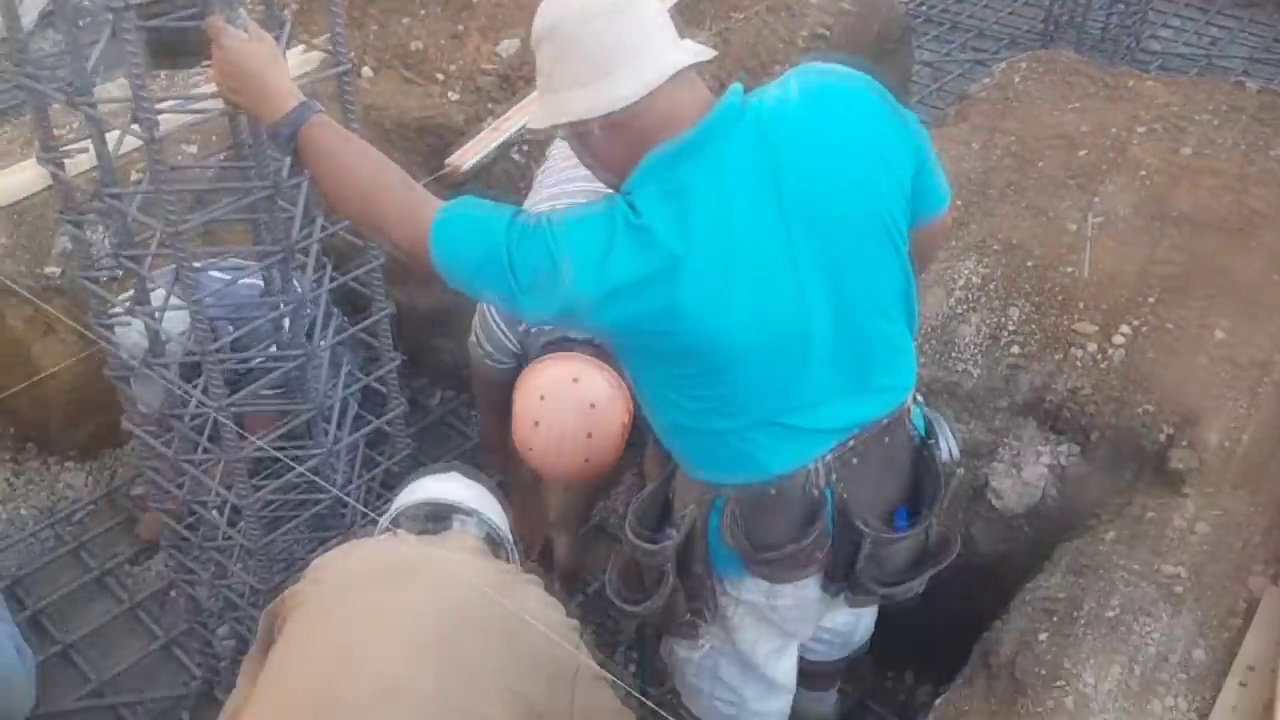helmet: (506, 351, 636, 479), (371, 483, 518, 553)
helmet-off: (515, 3, 719, 179), (111, 287, 204, 413)
helmet-on: (508, 332, 647, 482), (372, 469, 521, 577)
person: (221, 10, 966, 694), (218, 463, 640, 720), (466, 121, 662, 576), (92, 254, 367, 489)
